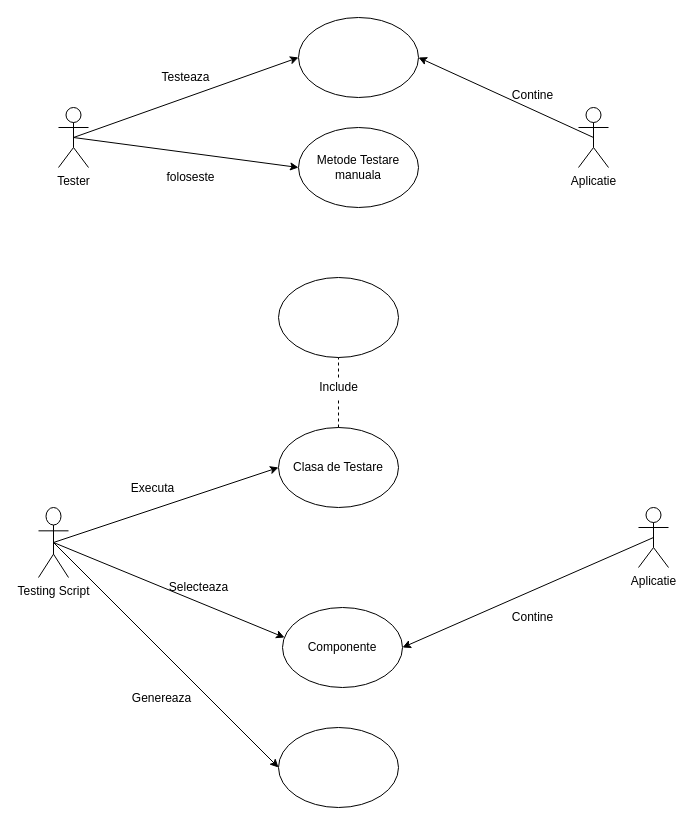
Image size: 693x825. Some labels were removed from this diagram. Each missing label, with the box of its shape:
Functionalitati: (298, 16, 418, 98)
Lista Teste esuate: (278, 726, 398, 808)
Teste: (278, 276, 398, 358)
